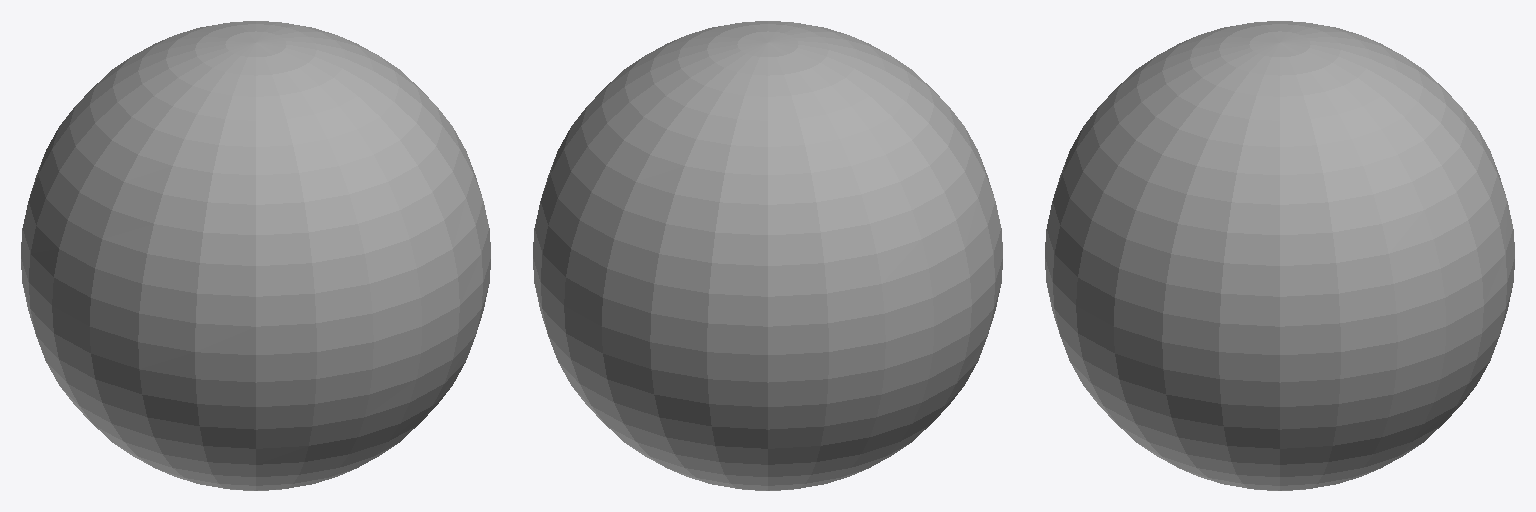
The model's file is Mercurio2.obj.
3 views of the same model, side by side, from view 1: azimuth 30°, elevation 25°; view 2: azimuth 150°, elevation 25°; view 3: azimuth 270°, elevation 25° (orthographic).
Parts seen in each view (by area): view 1: Sphere8; view 2: Sphere8; view 3: Sphere8.
Boxes of the visible parts, x1,y1,x2,y2 form: Sphere8: [21, 21, 490, 490]; Sphere8: [533, 21, 1002, 490]; Sphere8: [1045, 21, 1514, 490].
Bounding box in the file's own units: 0.7606 × 0.7606 × 0.7606.